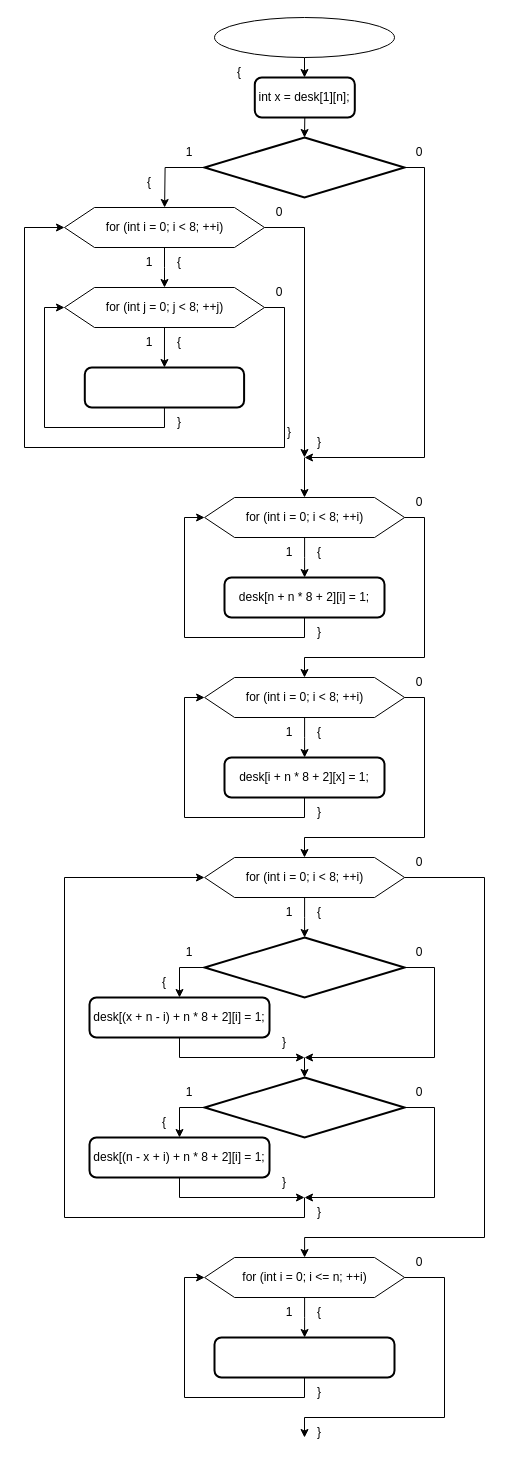
Image size: 510x1465. Some labels were removed from this diagram. The box of each missing label's shape, as (x1, y1, x2, y2) in pixels:
desk[i + n * 8 + 2][desk[1][i]] = 8;: (213, 1336, 395, 1378)
desk[i + n * 8 + 2][j] = desk[i + (n - 1) * 8 + 2][j];: (83, 366, 245, 408)
if (((n - x + i) > 0) && ((n - x + i) < 8)): (203, 1076, 405, 1138)
if (((x + n - i) > 0) && ((x + n - i) < 8)): (203, 936, 405, 998)
if (n != 0): (203, 136, 405, 198)
void desk_place(int n): (214, 16, 394, 58)
